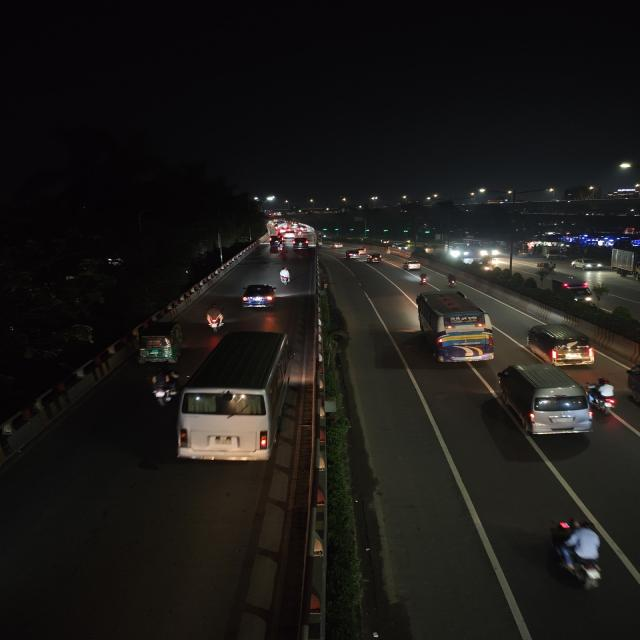bus: (180, 327, 299, 470), (412, 290, 503, 366), (474, 238, 503, 264), (450, 239, 473, 262)
car: (490, 363, 591, 445), (520, 320, 600, 368), (237, 282, 281, 310), (569, 257, 601, 270), (291, 236, 310, 253), (365, 252, 386, 265), (400, 258, 421, 270), (346, 248, 361, 260)
cng: (133, 322, 180, 365)
motorcycle: (544, 515, 610, 593), (140, 363, 184, 411), (588, 378, 621, 421), (198, 299, 229, 333), (276, 264, 298, 288), (445, 271, 457, 289), (416, 273, 432, 285)
truck: (549, 278, 595, 308), (608, 246, 640, 281), (541, 244, 561, 261)
